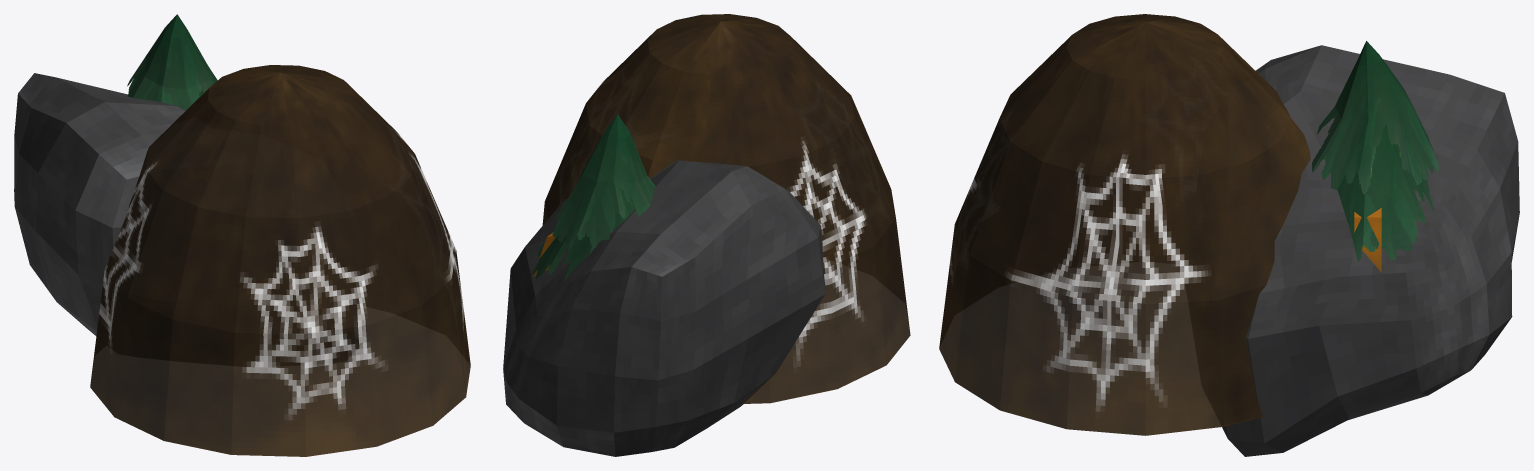
Rendered from stuff.glb.
3 renders of one model, left to right at view 1: azimuth 30°, elevation 25°; view 2: azimuth 150°, elevation 25°; view 3: azimuth 270°, elevation 25°, orthographic. The views are drawn at different scales.
Visible parts, largest first — view 1: SdiperHouse, Rock, Tree; view 2: Rock, SdiperHouse, Tree; view 3: SdiperHouse, Rock, Tree.
Boxes of the visible parts, left/top/right/bottom form: SdiperHouse: left=90, top=65, right=470, bottom=456; Rock: left=14, top=73, right=185, bottom=335; Tree: left=127, top=14, right=217, bottom=110; Rock: left=503, top=160, right=825, bottom=456; SdiperHouse: left=532, top=14, right=910, bottom=403; Tree: left=532, top=114, right=655, bottom=282; SdiperHouse: left=939, top=14, right=1381, bottom=435; Rock: left=1222, top=45, right=1519, bottom=456; Tree: left=1312, top=41, right=1438, bottom=261.
Size of the model in its own units: 3.93 by 3.95 by 5.53.
Materials: 1 (1 with a texture image).
